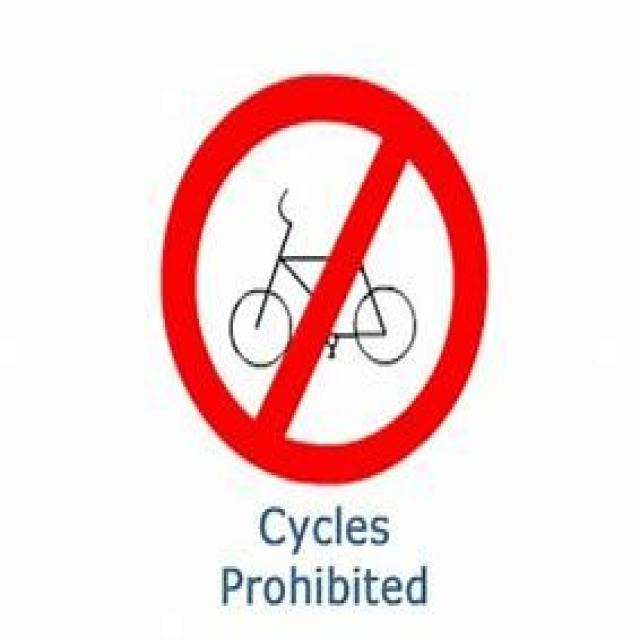cycle_prohibited: (161, 74, 488, 484)
